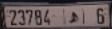2: (8, 10, 18, 26)
3: (18, 9, 25, 26)
4: (43, 9, 51, 25)
6: (96, 6, 105, 24)
7: (26, 9, 34, 25)
8: (34, 9, 42, 26)
h: (68, 11, 79, 24)
